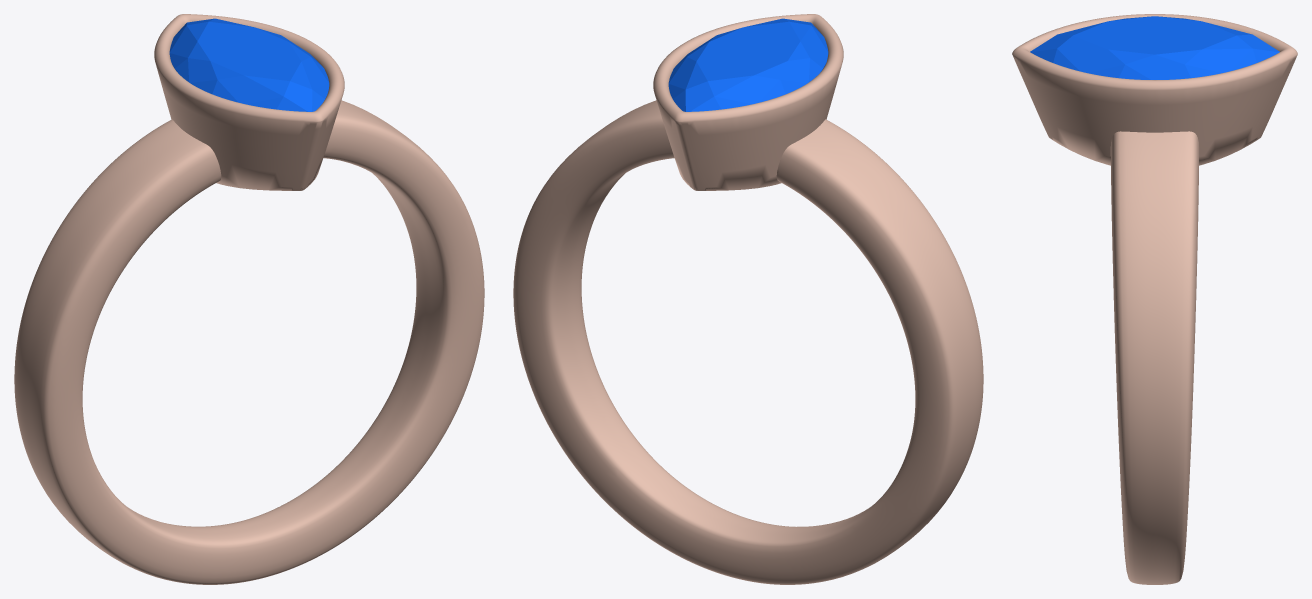
The model's file is bluesapphire-marquise-rosegold-bezelset-straighttaperedband-nosidestones.glb.
3 renders of one model, left to right at view 1: azimuth 30°, elevation 25°; view 2: azimuth 150°, elevation 25°; view 3: azimuth 270°, elevation 25°, orthographic.
Parts seen in each view (by area): view 1: metal.002, stone; view 2: metal.002, stone; view 3: metal.002, stone.
Part boxes in pixels (<box>): metal.002: <box>14,14,484,584</box>; stone: <box>169,18,329,111</box>; metal.002: <box>513,14,983,584</box>; stone: <box>668,18,828,111</box>; metal.002: <box>1012,14,1297,584</box>; stone: <box>1030,16,1279,79</box>.
Size of the model in its own units: 20.48 by 22.93 by 11.31.
